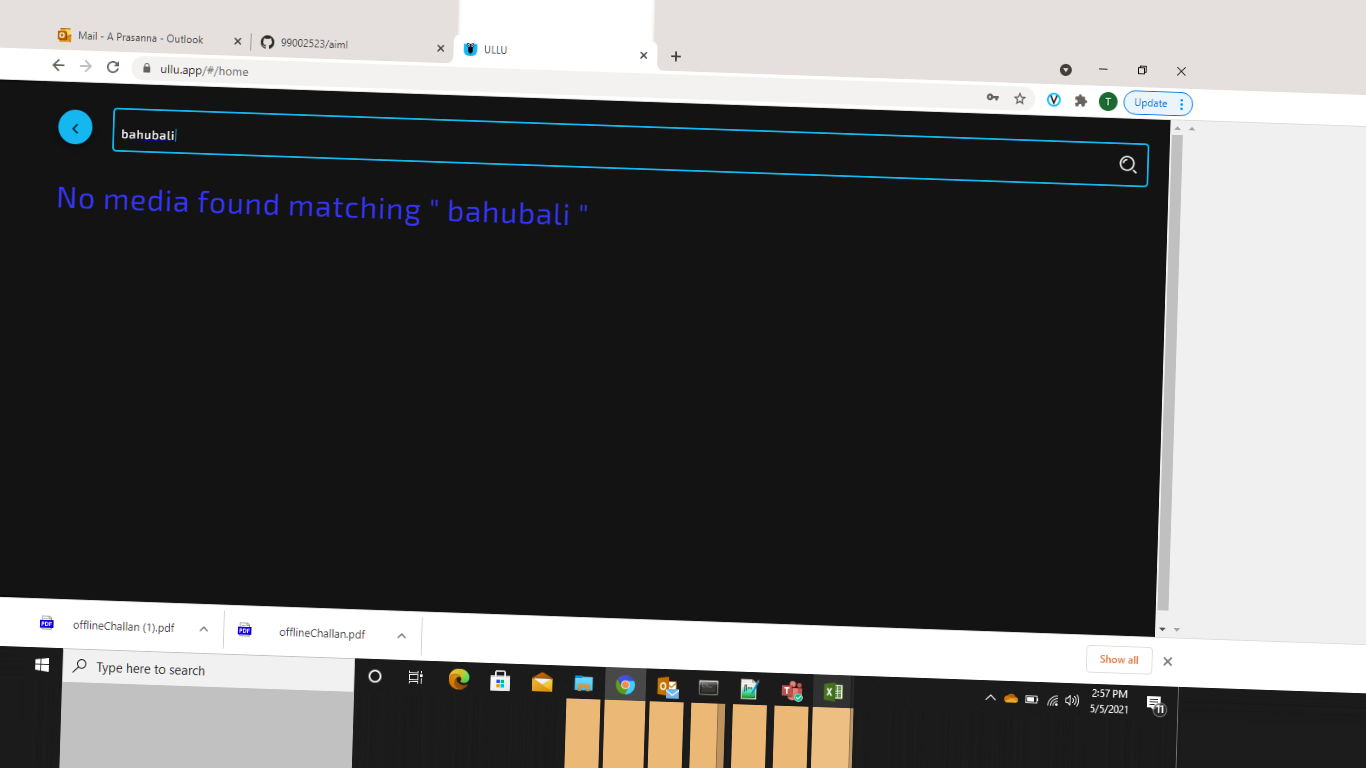noresultsfound: (45, 160, 593, 233)
searchicon: (1105, 142, 1152, 188)
searchtextbox: (109, 92, 1153, 193)
